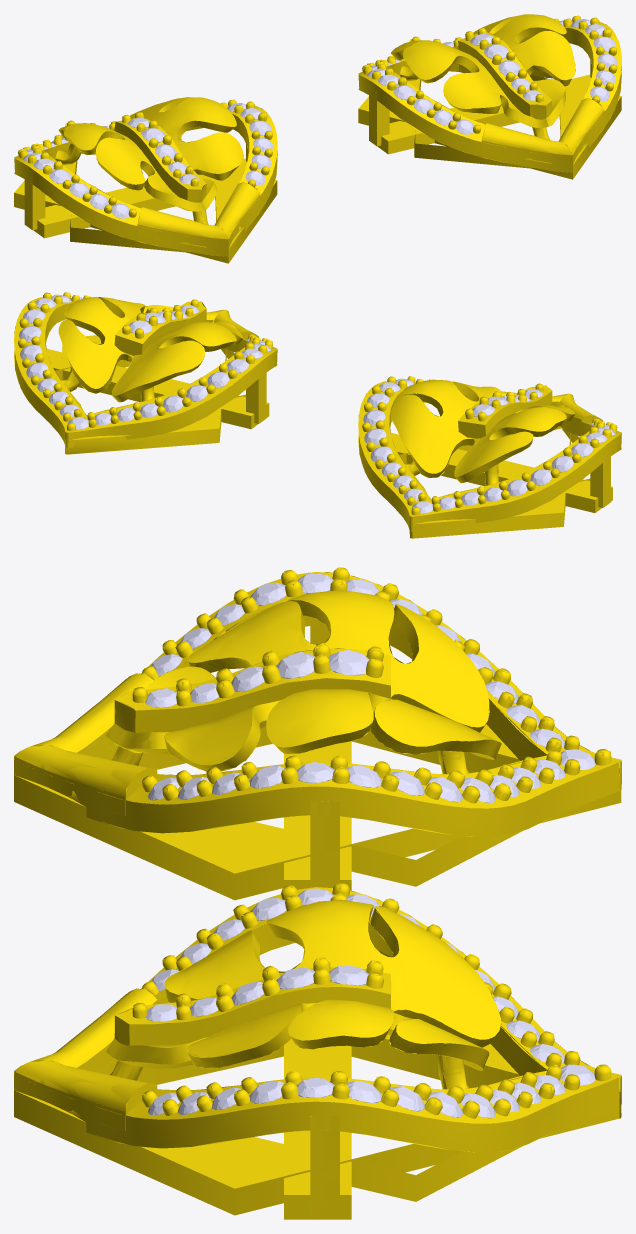
3 views of the same model, one above another, from view 1: azimuth 30°, elevation 25°; view 2: azimuth 150°, elevation 25°; view 3: azimuth 270°, elevation 25° (orthographic). The views are drawn at different scales.
Visible parts, largest first — view 1: highPolyMesh, lowPolyMesh; view 2: highPolyMesh, lowPolyMesh; view 3: highPolyMesh, lowPolyMesh.
Part boxes in pixels (x1,y1,x2,y2): highPolyMesh: [14, 14, 621, 263]; lowPolyMesh: [14, 14, 621, 254]; highPolyMesh: [14, 292, 621, 538]; lowPolyMesh: [14, 292, 621, 533]; highPolyMesh: [14, 567, 621, 1219]; lowPolyMesh: [14, 567, 621, 1219].
Size of the model in its own units: 0.0298 by 0.00412 by 0.0144.
